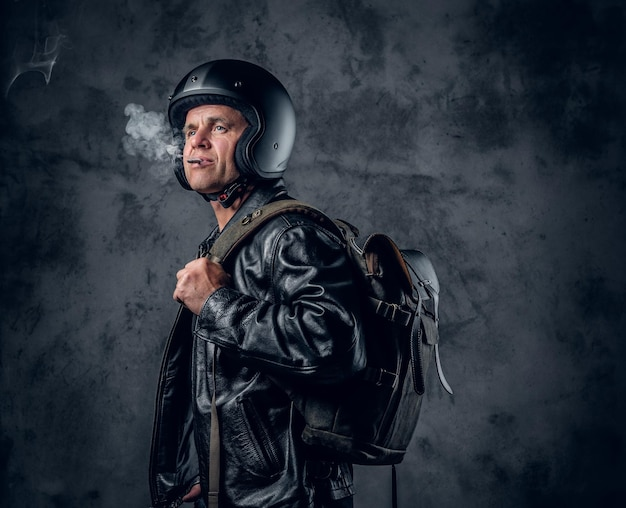cigarette: (185, 154, 205, 164)
